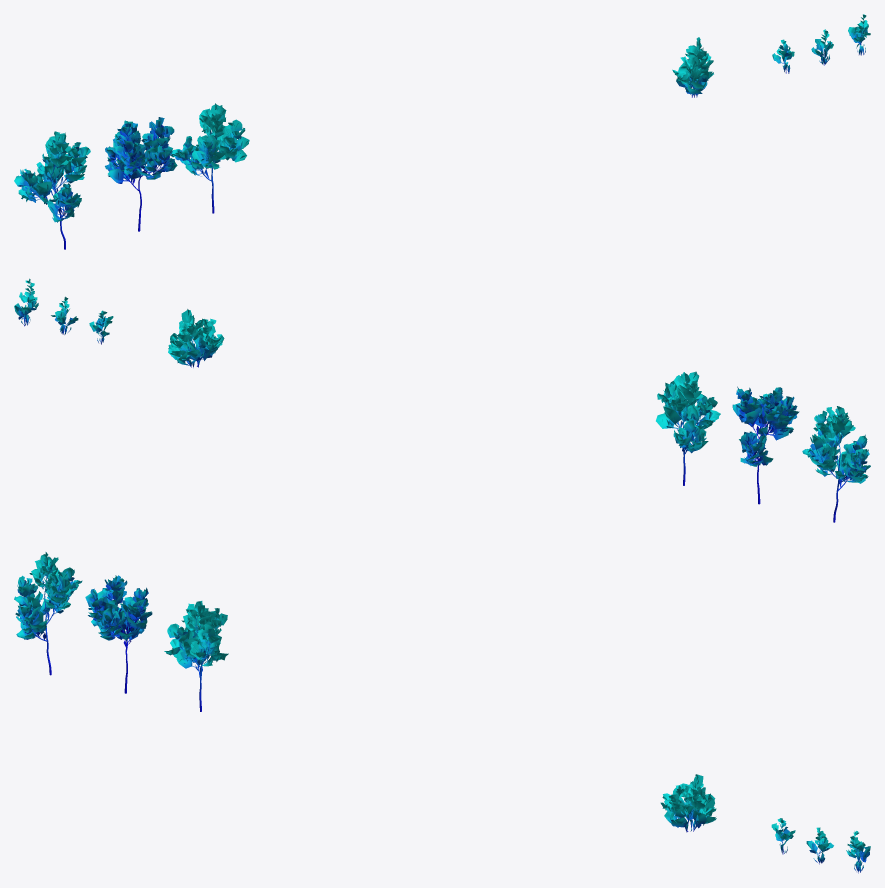
File: Tree.fbx
The picture shows the model from 3 angles, top to bottom: view 1: azimuth 30°, elevation 25°; view 2: azimuth 150°, elevation 25°; view 3: azimuth 330°, elevation 25°; orthographic projection.
Parts seen in each view (by area): view 1: Lilac_single_tree_1_LOD0, Lilac_single_tree_2_LOD0, Lilac_single_tree_3_LOD0, Lilac_small_bush_3_LOD0; view 2: Lilac_single_tree_1_LOD0, Lilac_single_tree_3_LOD0, Lilac_single_tree_2_LOD0, Lilac_small_bush_3_LOD0, Lilac_sapling_3_LOD0; view 3: Lilac_single_tree_1_LOD0, Lilac_single_tree_2_LOD0, Lilac_single_tree_3_LOD0, Lilac_small_bush_3_LOD0.
Boxes of the visible parts, x1,y1,x2,y2 form: Lilac_single_tree_1_LOD0: [14, 131, 90, 249]; Lilac_single_tree_2_LOD0: [105, 117, 177, 231]; Lilac_single_tree_3_LOD0: [171, 103, 249, 213]; Lilac_small_bush_3_LOD0: [672, 37, 713, 97]; Lilac_single_tree_1_LOD0: [802, 406, 870, 522]; Lilac_single_tree_3_LOD0: [656, 371, 720, 485]; Lilac_single_tree_2_LOD0: [732, 386, 799, 504]; Lilac_small_bush_3_LOD0: [168, 309, 224, 367]; Lilac_sapling_3_LOD0: [14, 278, 38, 326]; Lilac_single_tree_1_LOD0: [14, 552, 82, 675]; Lilac_single_tree_2_LOD0: [85, 575, 152, 693]; Lilac_single_tree_3_LOD0: [164, 601, 228, 711]; Lilac_small_bush_3_LOD0: [660, 774, 716, 832].
Bounding box in the file's own units: 5374 × 724 × 532.
